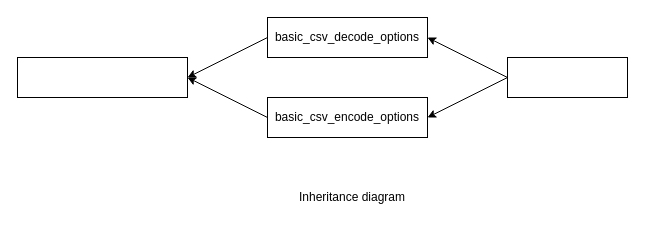
Image size: 645x225. Some labels were removed from this diagram. The shapes that lost their labels are listed below. From the top down, each one's box as (x1, y1, x2, y2) in pixels, then its label:
(16, 56, 188, 98): basic_csv_options_common
(506, 56, 628, 98): basic_csv_options
